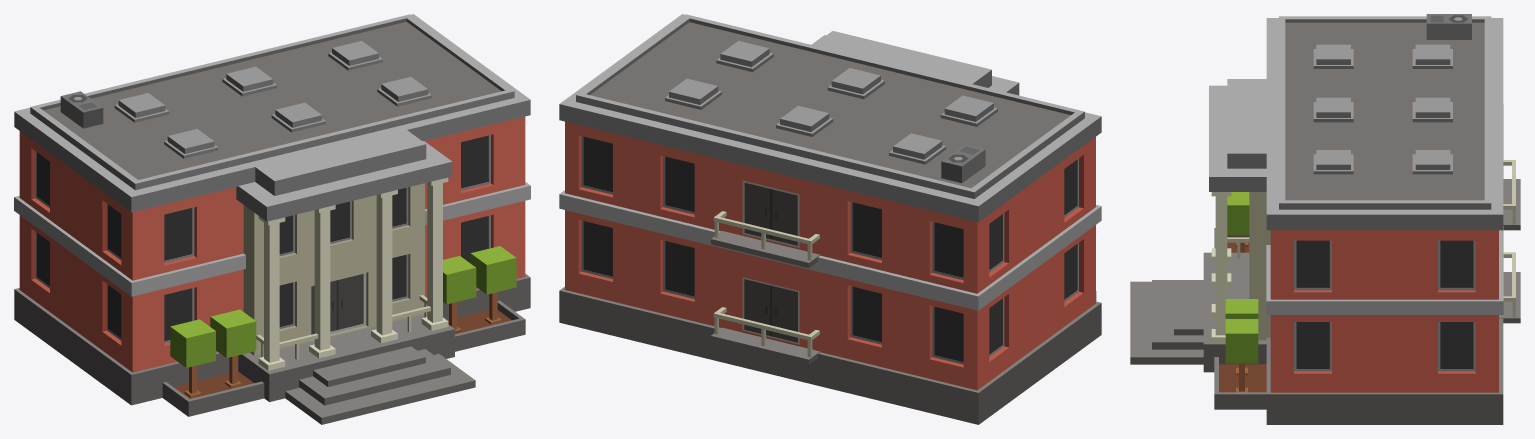
The model's file is big_house2.obj.
3 views of the same model, side by side, from view 1: azimuth 30°, elevation 25°; view 2: azimuth 150°, elevation 25°; view 3: azimuth 270°, elevation 25° (orthographic). The views are drawn at different scales.
Parts seen in each view (by area): view 1: ST_Building_TownHall_Untitled.010; view 2: ST_Building_TownHall_Untitled.010; view 3: ST_Building_TownHall_Untitled.010.
Part boxes in pixels (x1,y1,x2,y2): ST_Building_TownHall_Untitled.010: (14,14,530,424); ST_Building_TownHall_Untitled.010: (559,14,1101,424); ST_Building_TownHall_Untitled.010: (1130,14,1520,424).
Bounding box in the file's own units: 28 × 15.23 × 23.47.
